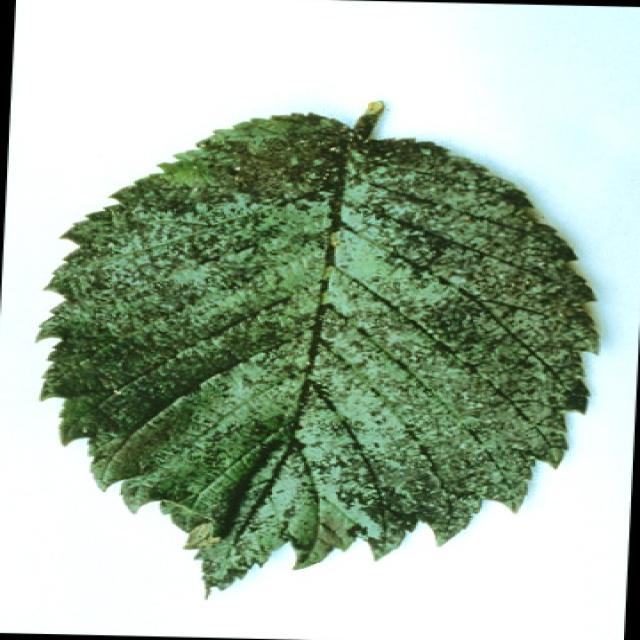Sooty Mold: (34, 98, 601, 598)
